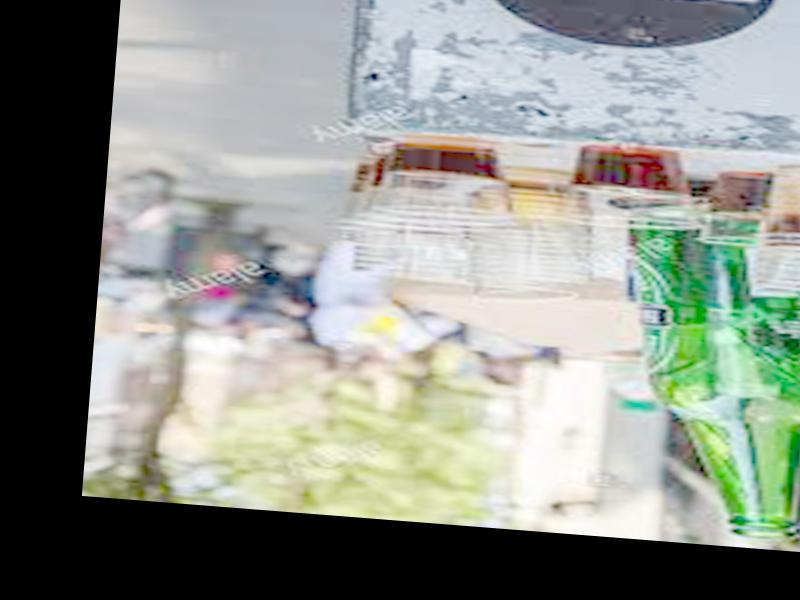Beer: (600, 183, 800, 543)
